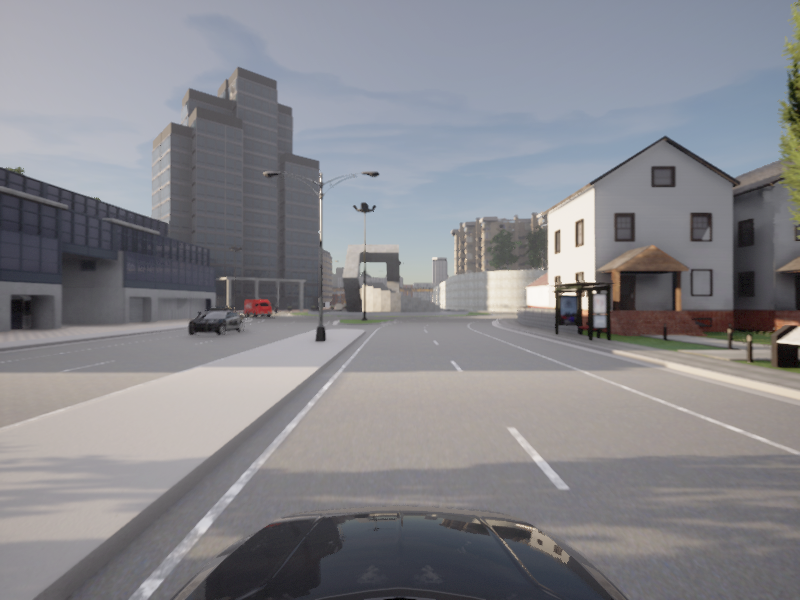vehicle: (180, 307, 247, 337)
